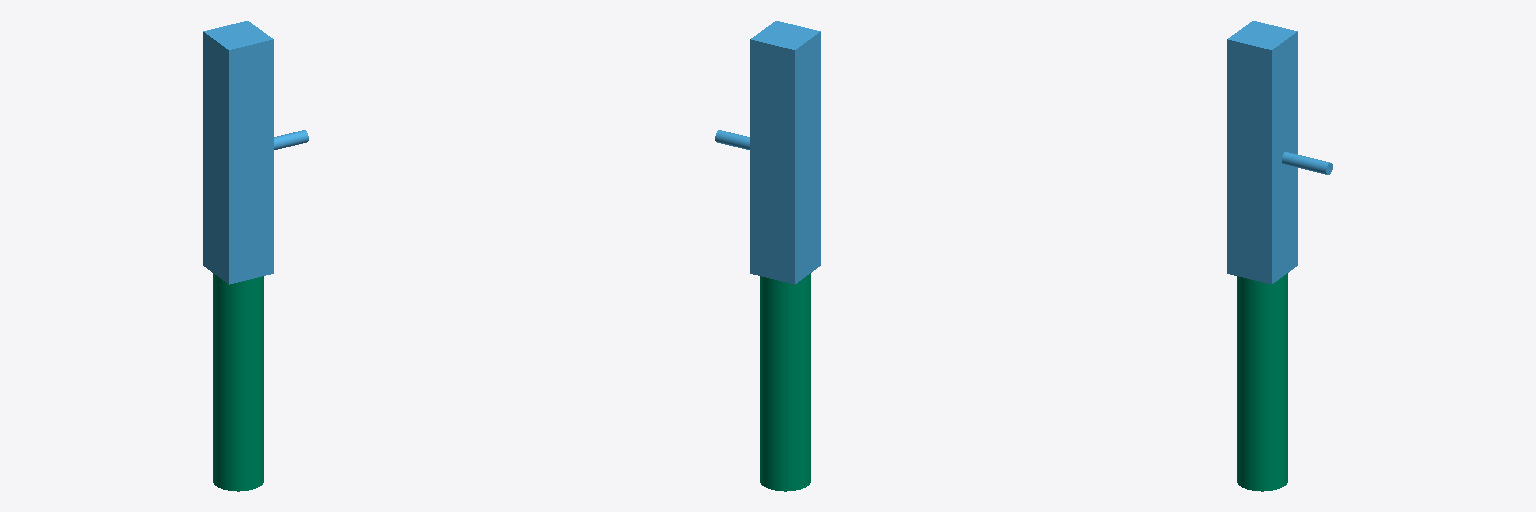
URDF robot description (test_arm):
<?xml version="1.0"?>
<robot name="test_arm">
  <mujoco><compiler meshdir="meshes" fusestatic="false" discardvisual="false"/></mujoco>
  <link name="base_link"/>
  <joint name="shoulder" type="revolute"><parent link="base_link"/><child link="upper_arm_link"/>
    <origin xyz="0 0 0"/><axis xyz="0 1 0"/><limit lower="-3" upper="3" effort="10" velocity="5"/></joint>
  <link name="upper_arm_link">
  <!-- upper_arm_link: OpenCascade 질량 특성, 밀도 2700 kg/m³, 부품 2개 -->
  <inertial>
    <origin xyz="0.000388881 0 -0.1" rpy="0 0 0"/>
    <mass value="0.872482"/>
    <inertia ixx="0.00299531" iyy="0.00300982" izz="0.000245024" ixy="0" ixz="0" iyz="0"/>
  </inertial>
      <visual><geometry><mesh filename="upper_arm_link_visual.stl"/></geometry></visual>
    <collision><geometry><mesh filename="upper_arm_link_collision.stl"/></geometry></collision>
  </link>
  <joint name="elbow" type="revolute"><parent link="upper_arm_link"/><child link="forearm_link"/>
    <origin xyz="0 0 -0.2"/><axis xyz="0 1 0"/><limit lower="-3" upper="3" effort="10" velocity="5"/></joint>
  <link name="forearm_link">
  <!-- forearm_link: OpenCascade 질량 특성, 밀도 2700 kg/m³, 부품 1개 -->
  <inertial>
    <origin xyz="0 0 -0.09" rpy="0 0 0"/>
    <mass value="0.610726"/>
    <inertia ixx="0.00171003" iyy="0.00171003" izz="0.000122145" ixy="0" ixz="0" iyz="0"/>
  </inertial>
    <visual><geometry><mesh filename="forearm_link_visual.stl"/></geometry></visual>
    <collision><geometry><mesh filename="forearm_link_collision.stl"/></geometry></collision>
  </link>
</robot>

--- What the picture shows (computed from the rendered views, not written in the file) ---
3 views of the same robot in one strip: view 1: azimuth 30°, elevation 25°; view 2: azimuth 150°, elevation 25°; view 3: azimuth 330°, elevation 25° (orthographic).
Model test_arm with 3 links and 2 joints (2 revolute), rooted at base_link, posed every joint at zero.
Visible links, largest first — view 1: upper_arm_link, forearm_link; view 2: upper_arm_link, forearm_link; view 3: upper_arm_link, forearm_link.
Link boxes in pixels (x1,y1,x2,y2): upper_arm_link: (203,21,308,284); forearm_link: (213,273,263,491); upper_arm_link: (715,21,820,284); forearm_link: (760,273,810,491); upper_arm_link: (1227,21,1332,284); forearm_link: (1237,273,1287,491).
Bounding box of the posed robot: 0.08 × 0.04 × 0.38 m (x, y, z).
Meshes: 2 distinct files referenced, 2 mesh visuals loaded (2 binary STL).
